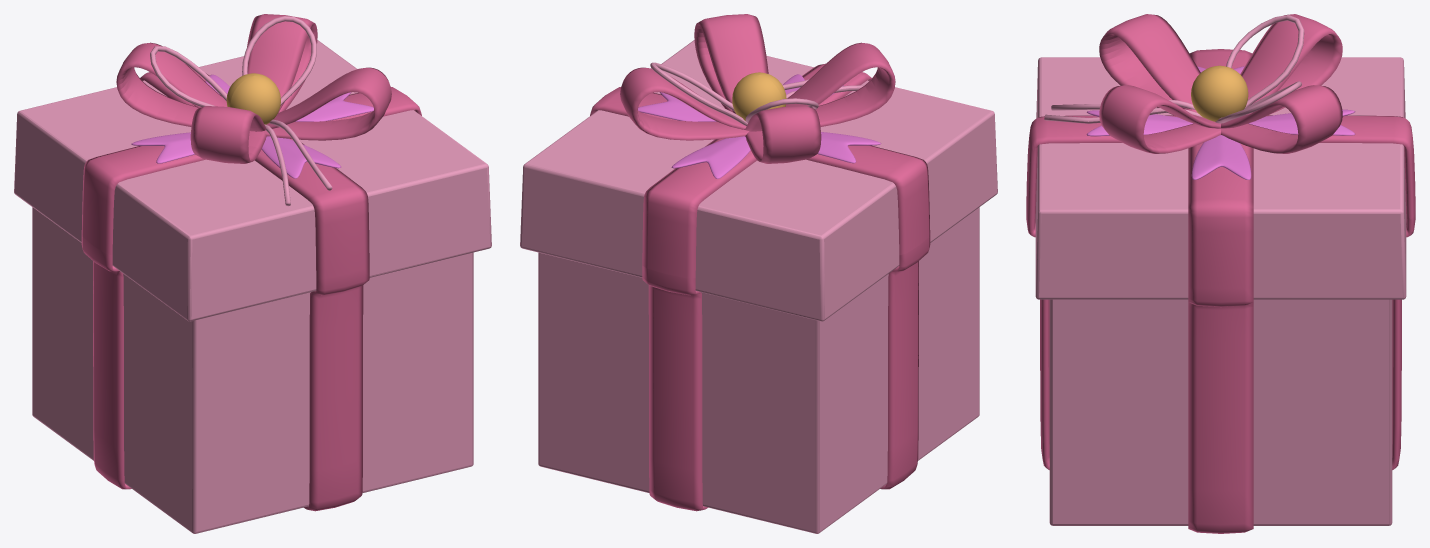
Rendered from jiyeong.glb.
The picture shows the model from 3 angles, left to right: view 1: azimuth 30°, elevation 25°; view 2: azimuth 150°, elevation 25°; view 3: azimuth 270°, elevation 25°; orthographic projection. The views are drawn at different scales.
Visible parts, largest first — view 1: imagetostl_mesh0, imagetostl_mesh1, imagetostl_mesh2, imagetostl_mesh3, imagetostl_mesh4, imagetostl_mesh5; view 2: imagetostl_mesh0, imagetostl_mesh1, imagetostl_mesh2, imagetostl_mesh3, imagetostl_mesh4, imagetostl_mesh5; view 3: imagetostl_mesh0, imagetostl_mesh1, imagetostl_mesh2, imagetostl_mesh3, imagetostl_mesh4, imagetostl_mesh5.
Boxes of the visible parts, left/top/right/bottom form: imagetostl_mesh0: left=14, top=40, right=491, bottom=533; imagetostl_mesh1: left=81, top=67, right=421, bottom=511; imagetostl_mesh2: left=116, top=14, right=391, bottom=163; imagetostl_mesh3: left=131, top=74, right=373, bottom=178; imagetostl_mesh4: left=150, top=16, right=332, bottom=206; imagetostl_mesh5: left=226, top=73, right=280, bottom=124; imagetostl_mesh0: left=520, top=40, right=997, bottom=533; imagetostl_mesh1: left=590, top=63, right=930, bottom=511; imagetostl_mesh2: left=620, top=14, right=895, bottom=163; imagetostl_mesh3: left=638, top=74, right=881, bottom=178; imagetostl_mesh4: left=650, top=62, right=864, bottom=125; imagetostl_mesh5: left=732, top=72, right=786, bottom=120; imagetostl_mesh0: left=1035, top=57, right=1406, bottom=525; imagetostl_mesh1: left=1026, top=49, right=1415, bottom=533; imagetostl_mesh2: left=1099, top=14, right=1342, bottom=153; imagetostl_mesh3: left=1086, top=66, right=1355, bottom=179; imagetostl_mesh4: left=1044, top=15, right=1304, bottom=123; imagetostl_mesh5: left=1191, top=65, right=1248, bottom=121.
Size of the model in its own units: 2.27 by 2.66 by 2.27.
